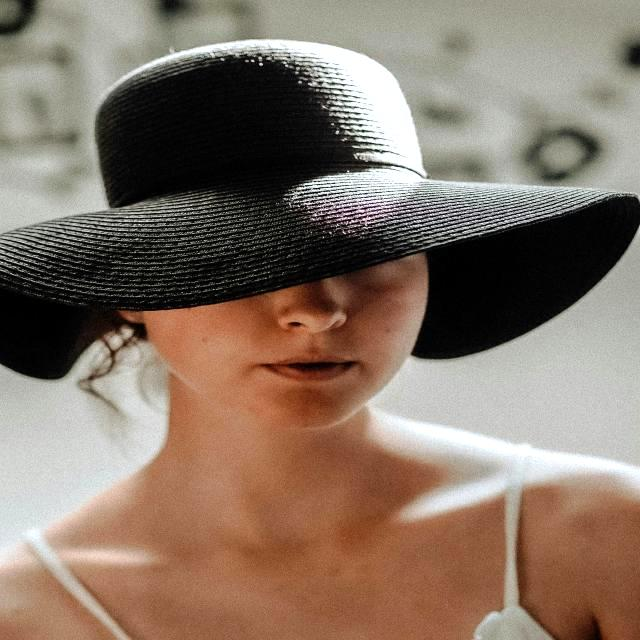no_hard_hat: (0, 41, 638, 310)
person: (0, 253, 640, 640)
